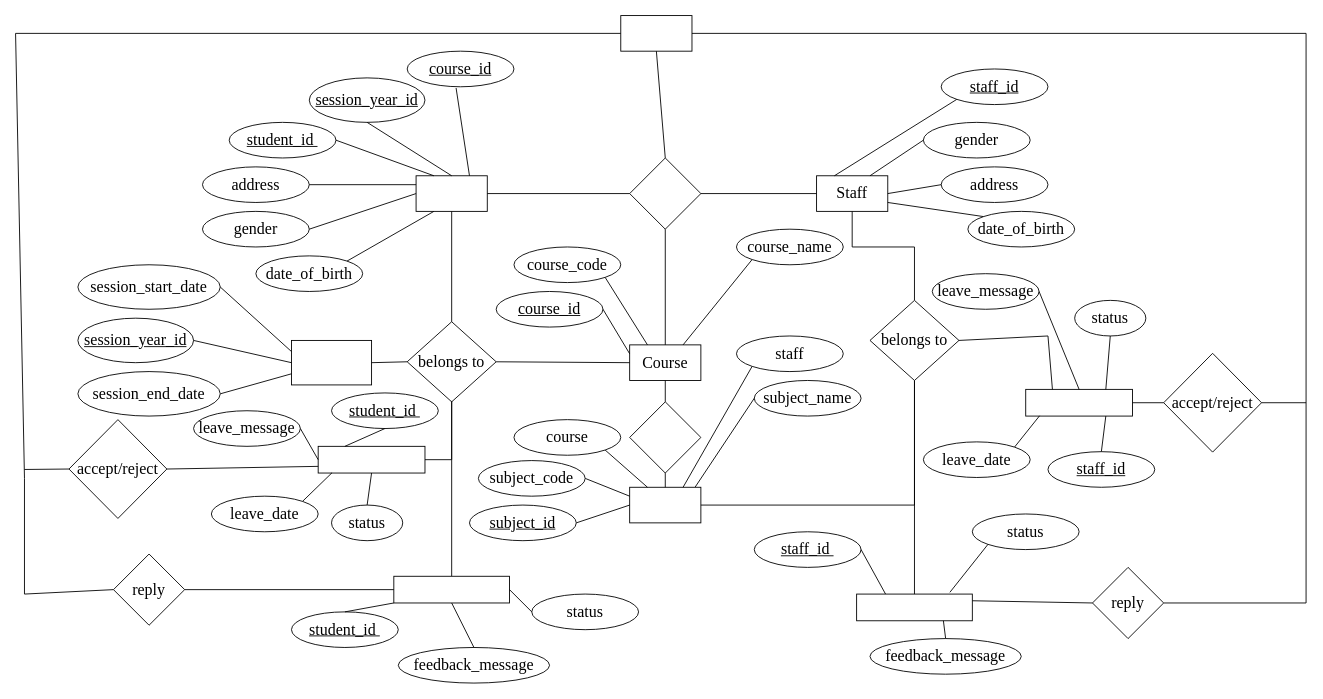
Some shapes in this 1323 by 699 pixel diagram are drawn without their labels. Each missing label, with the centre of its shape:
"add" goes at [665,193].
"Admin" goes at [656,33].
"has" goes at [665,437].
"Session Year" goes at [331,362].
"staff_feedback" goes at [914,607].
"staff_leave" goes at [1079,402].
"Student" goes at [451,193].
"student_feedback" goes at [451,589].
"student_leave" goes at [371,459].
"Subject" goes at [665,504].
